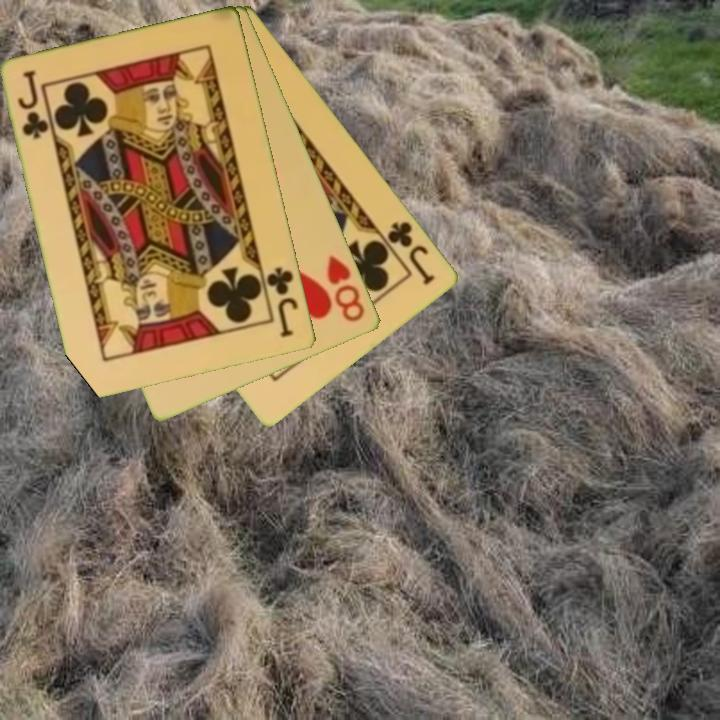8h: (323, 251, 368, 325)
Jc: (384, 217, 438, 289), (263, 263, 302, 341), (15, 67, 52, 142)
